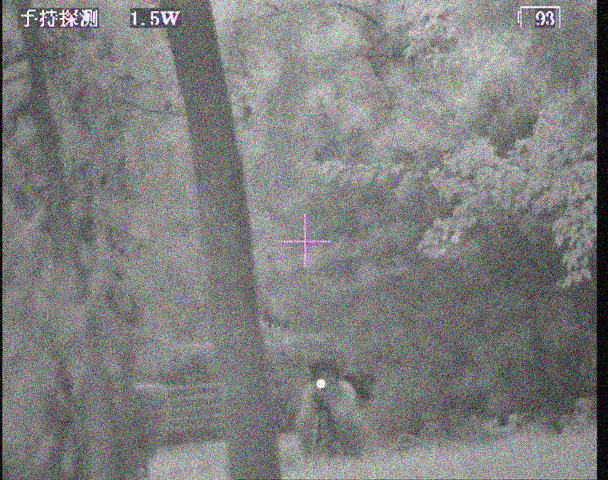my: (316, 378, 328, 390)
